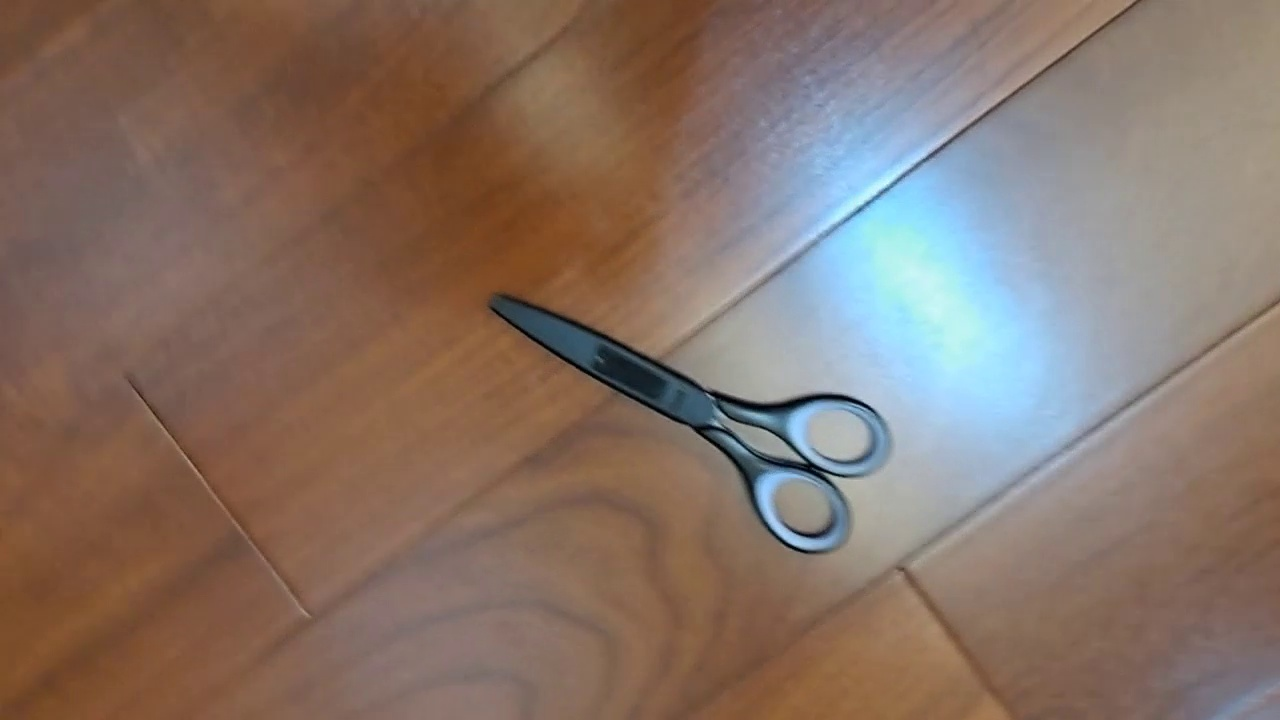scissors: (486, 292, 896, 555)
